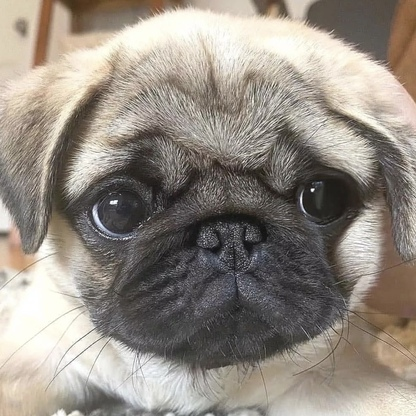Pug: (1, 2, 415, 416)
